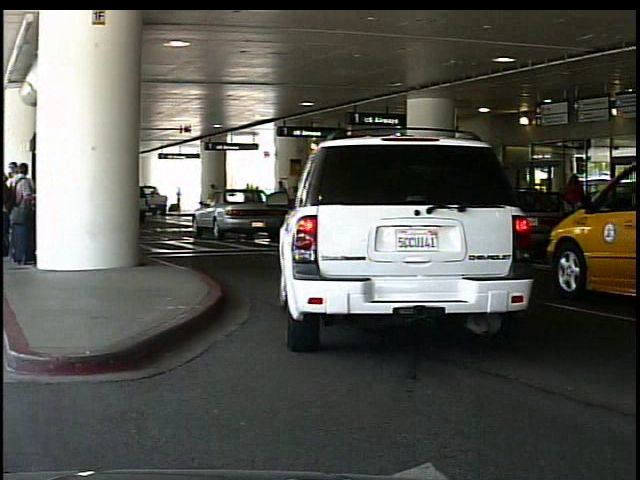person: (560, 169, 590, 255), (177, 186, 185, 213)
